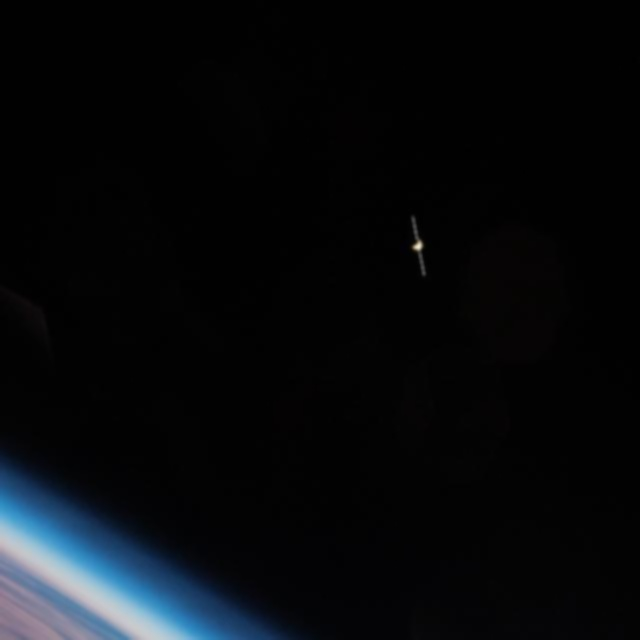medium_debris: (390, 199, 438, 299)
